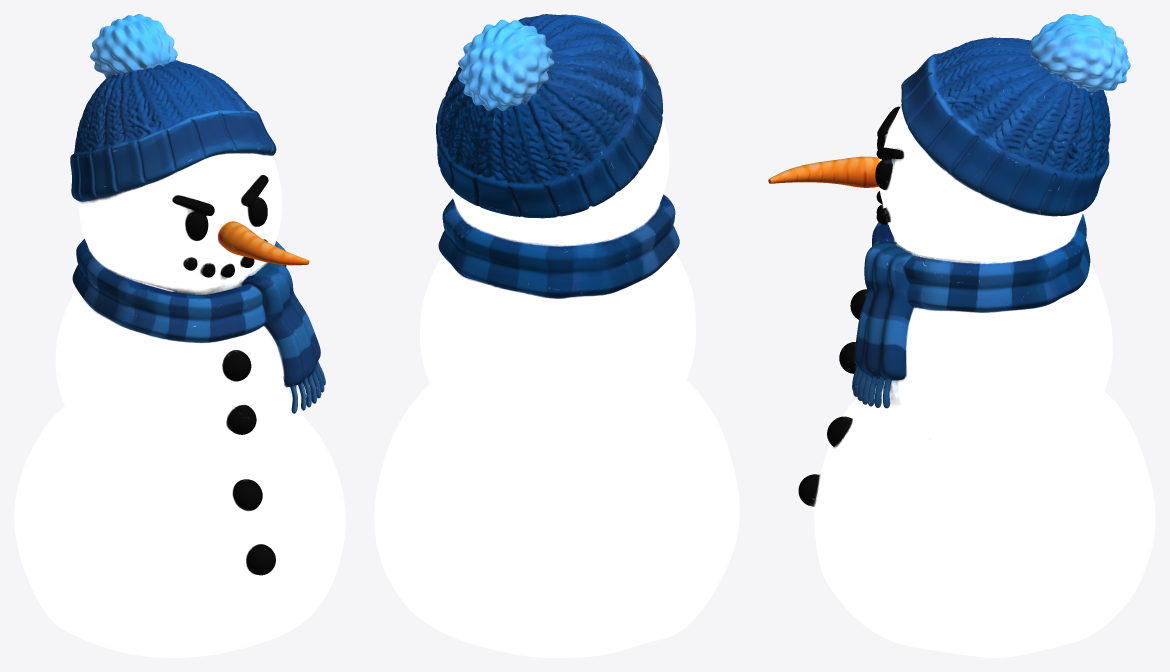
Rendered from Meshy_AI_Blue_Winter_Snowman_0612221546_texture.fbx.
The picture shows the model from 3 angles, left to right: view 1: azimuth 30°, elevation 25°; view 2: azimuth 150°, elevation 25°; view 3: azimuth 270°, elevation 25°; orthographic projection. The views are drawn at different scales.
Parts seen in each view (by area): view 1: Mesh_0; view 2: Mesh_0; view 3: Mesh_0.
Boxes of the visible parts, x1,y1,x2,y2 form: Mesh_0: (14, 14, 345, 657); Mesh_0: (374, 14, 739, 657); Mesh_0: (768, 14, 1155, 657).
Size of the model in its own units: 99.98 by 190 by 113.
Materials: 1 (1 with a texture image).
